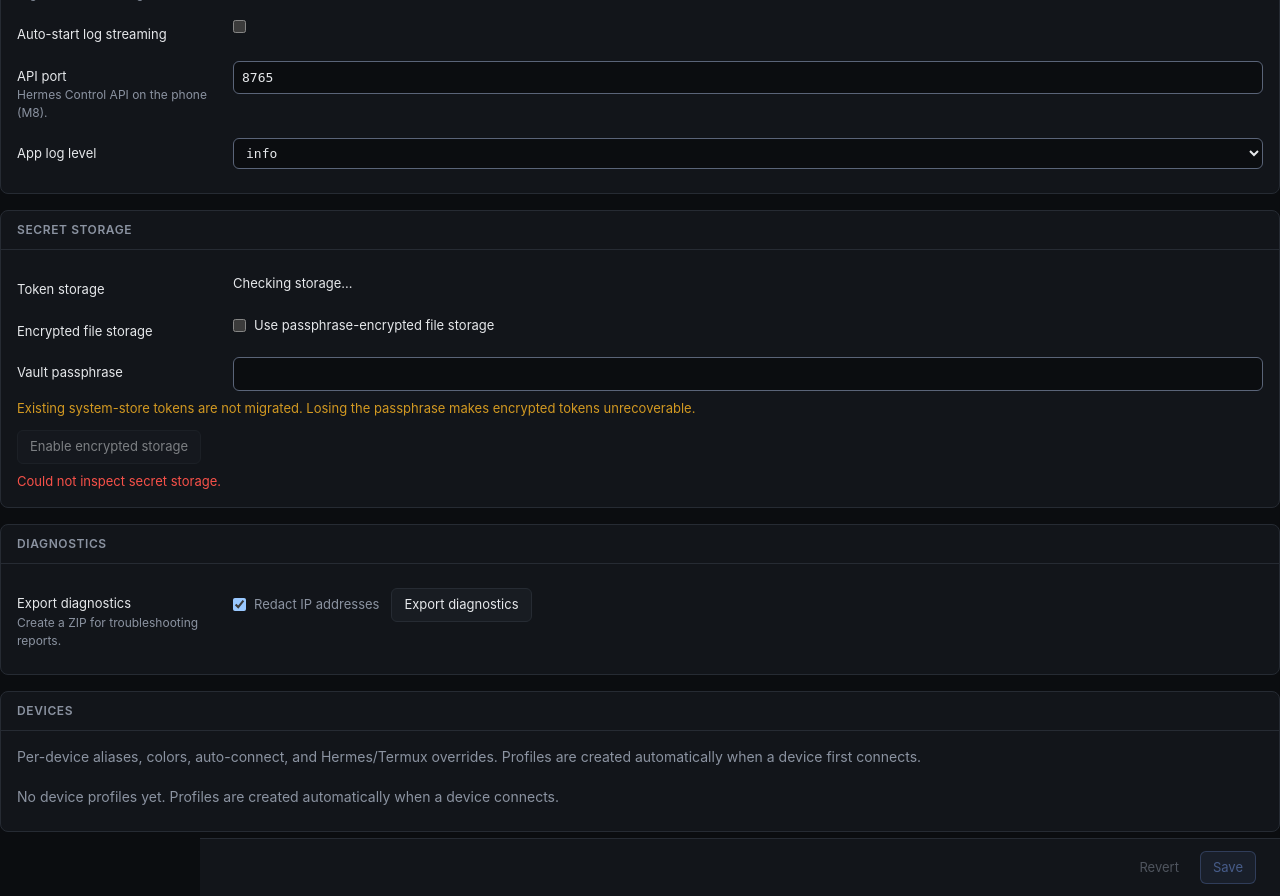
Test: SettingsView › requires confirmation and exports diagnostics with IP redaction enabled
(page scrolled)
Click the button "Export diagnostics" at point(462, 605), box left=392, top=588, right=532, bottom=622
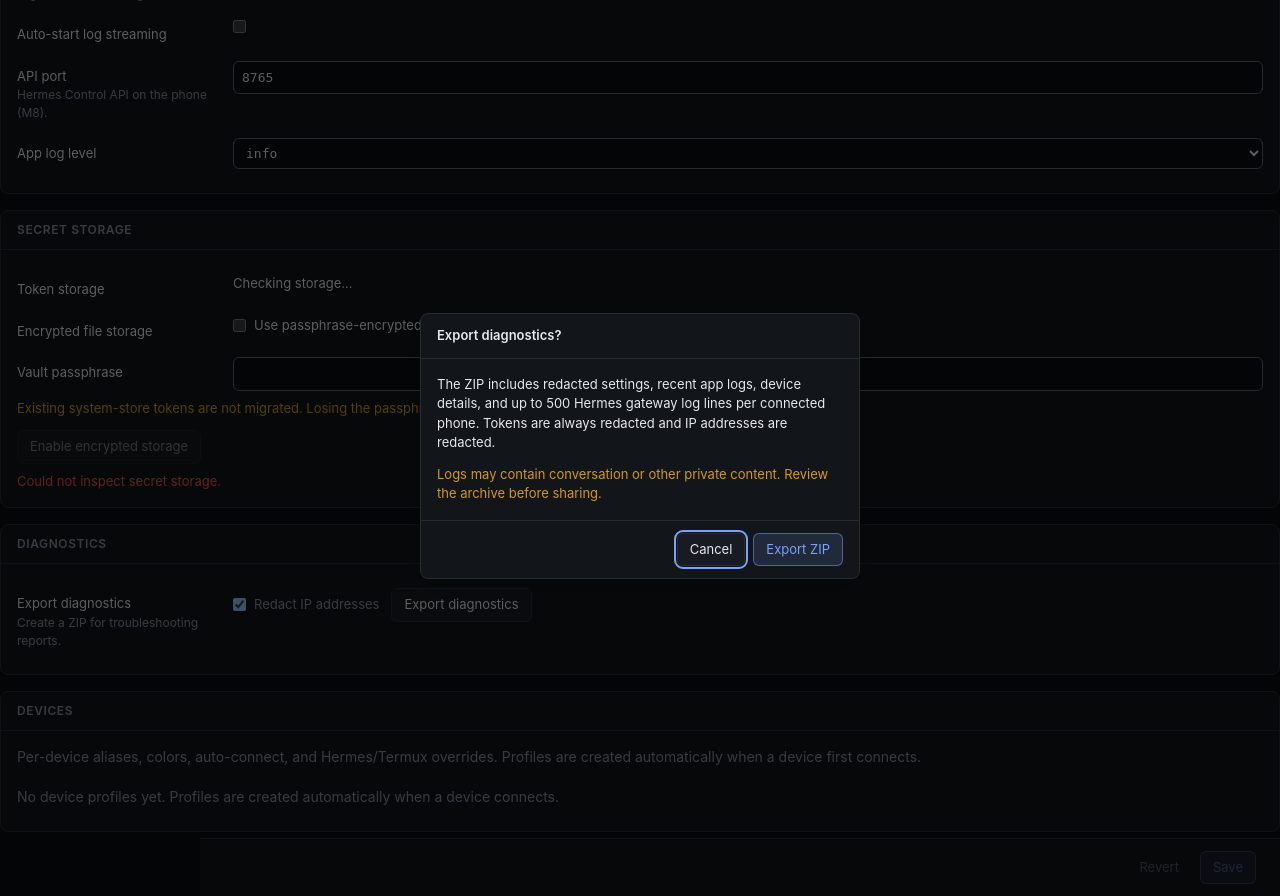
Check: the checkbox named "Redact IP addresses in diagnostics" is checked, box left=233, top=598, right=246, bottom=611
Check: the text "Logs may contain conversation or other private content" is shown, box left=437, top=466, right=828, bottom=501
Click the button "Export ZIP" at point(798, 549), box left=753, top=532, right=843, bottom=566
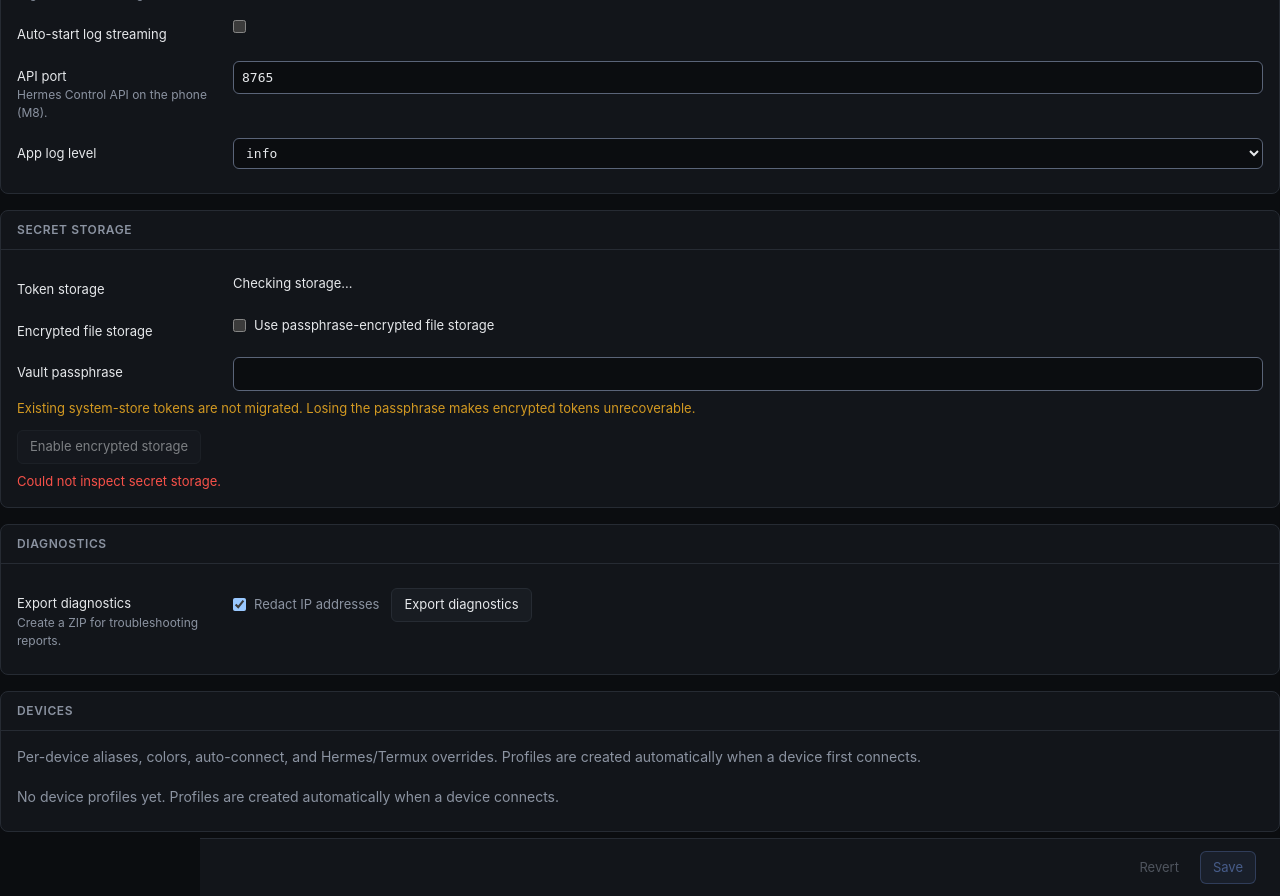
Check: the dialog is gone
